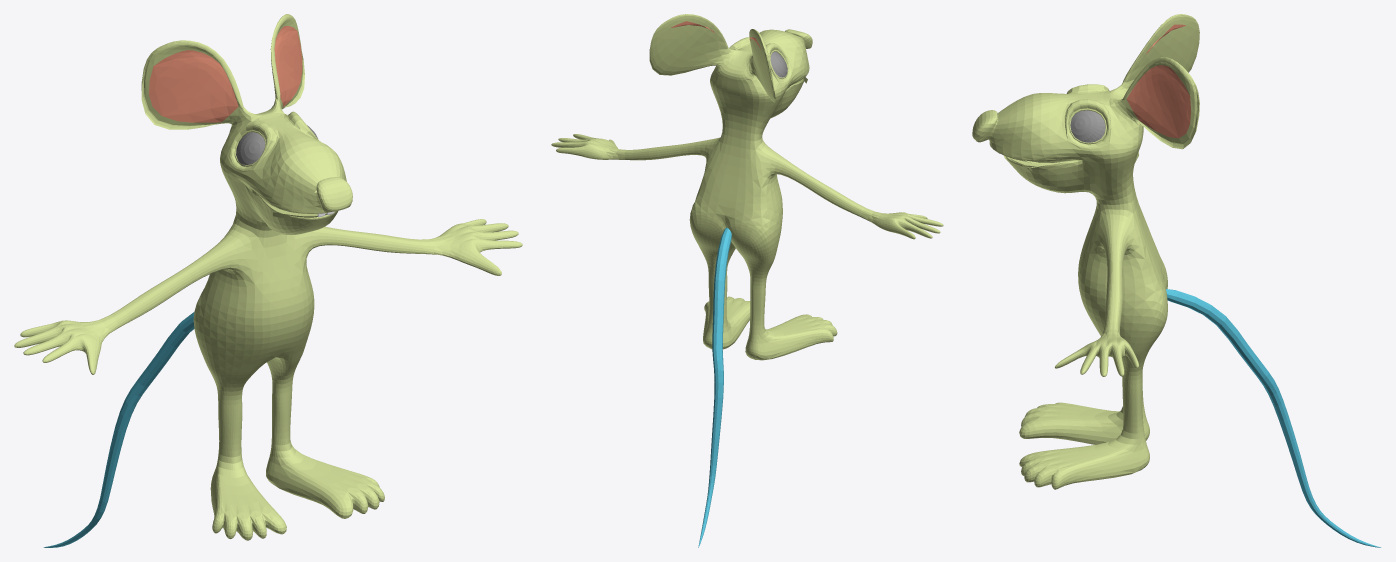
File: uploads_files_3348208_mish.obj
3 views of the same model, side by side, from view 1: azimuth 30°, elevation 25°; view 2: azimuth 150°, elevation 25°; view 3: azimuth 270°, elevation 25° (orthographic). The views are drawn at different scales.
Parts seen in each view (by area): view 1: volos, Box01, Line01, Sphere02; view 2: volos, Box01, Line01; view 3: volos, Box01, Line01, Sphere01.
Boxes of the visible parts, <box> form: volos: <box>14,14,522,537</box>; Box01: <box>14,14,522,540</box>; Line01: <box>43,312,194,547</box>; Sphere02: <box>236,132,265,166</box>; volos: <box>551,14,943,358</box>; Box01: <box>551,18,942,360</box>; Line01: <box>698,227,731,547</box>; volos: <box>990,14,1199,485</box>; Box01: <box>972,21,1197,489</box>; Line01: <box>1166,289,1381,547</box>; Sphere01: <box>1070,110,1105,144</box>.
Size of the model in its own units: 207 by 231 by 157.
